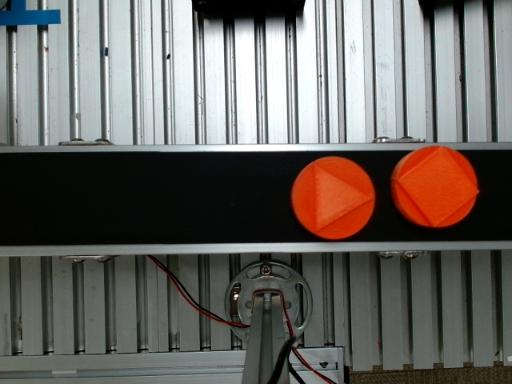Not_Square: (315, 162, 374, 231)
Orange_Waper: (391, 146, 478, 227), (291, 156, 374, 239)
Square: (399, 145, 478, 228)
